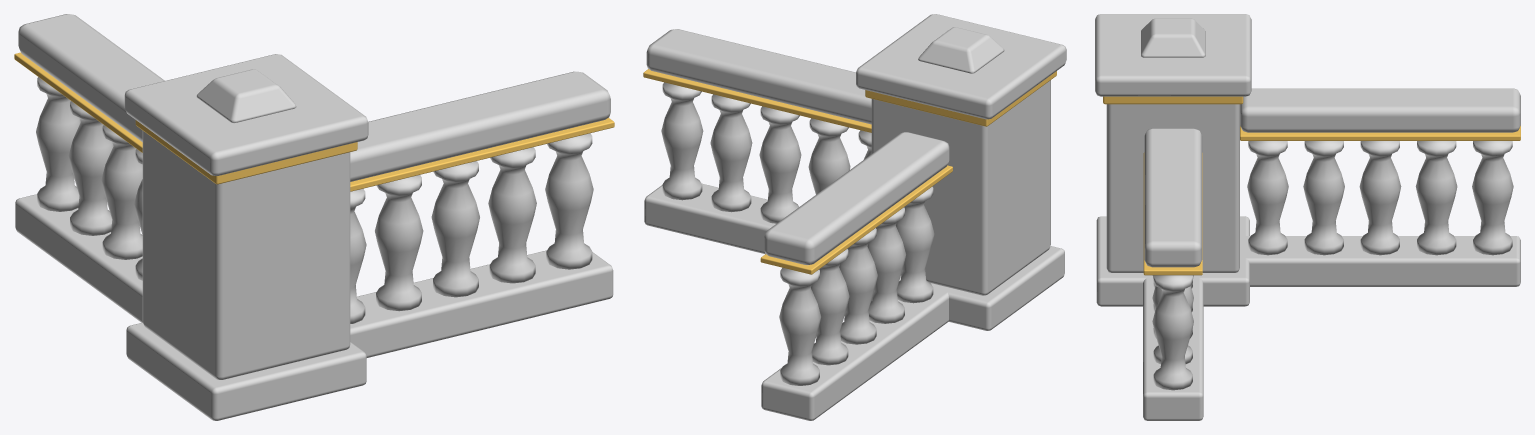
File: Lobby_PROP_BalustradeCorner.fbx
The picture shows the model from 3 angles, left to right: view 1: azimuth 30°, elevation 25°; view 2: azimuth 150°, elevation 25°; view 3: azimuth 270°, elevation 25°; orthographic projection. The views are drawn at different scales.
Parts seen in each view (by area): view 1: Lobby_PROP_BalustradeCorner__Marble, Lobby_PROP_BalustradeCorner__Gold; view 2: Lobby_PROP_BalustradeCorner__Marble, Lobby_PROP_BalustradeCorner__Gold; view 3: Lobby_PROP_BalustradeCorner__Marble, Lobby_PROP_BalustradeCorner__Gold.
Boxes of the visible parts, x1=… form: Lobby_PROP_BalustradeCorner__Marble: x1=15, y1=14, x2=613, y2=420; Lobby_PROP_BalustradeCorner__Gold: x1=14, y1=52, x2=614, y2=191; Lobby_PROP_BalustradeCorner__Marble: x1=644, y1=14, x2=1066, y2=420; Lobby_PROP_BalustradeCorner__Gold: x1=643, y1=69, x2=1056, y2=274; Lobby_PROP_BalustradeCorner__Marble: x1=1095, y1=14, x2=1520, y2=420; Lobby_PROP_BalustradeCorner__Gold: x1=1103, y1=96, x2=1520, y2=275.
Bounding box in the file's own units: 7.35 × 4.75 × 7.35.
